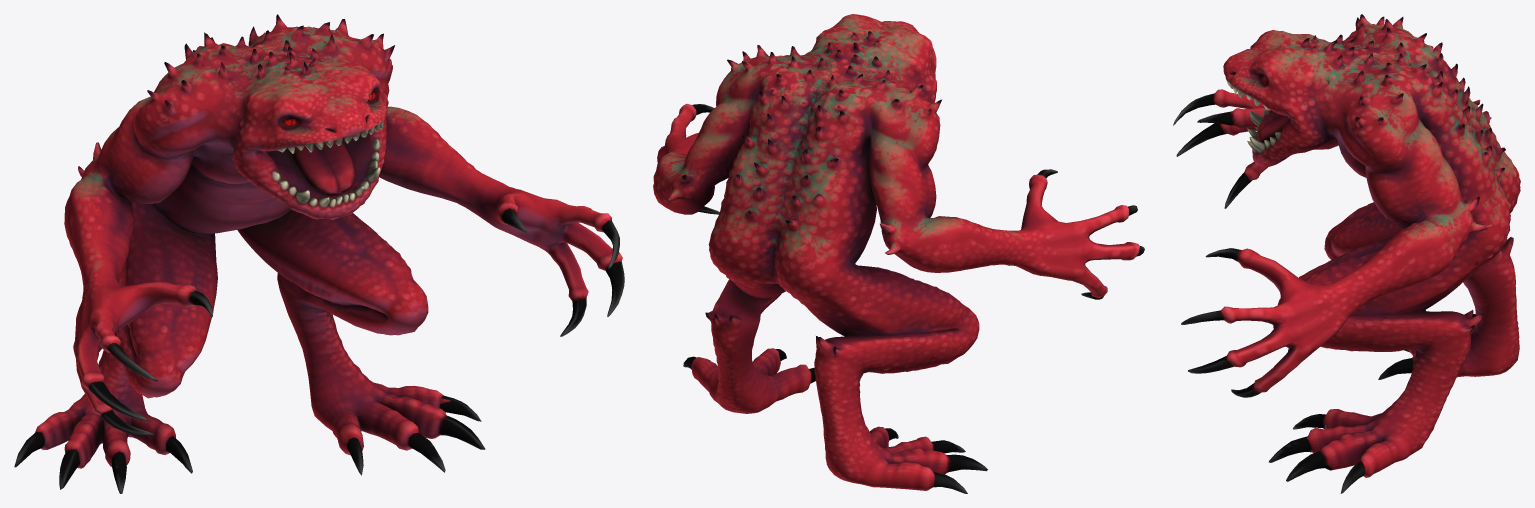
File: MZ4250 - Slaad Red.glb
The picture shows the model from 3 angles, left to right: view 1: azimuth 30°, elevation 25°; view 2: azimuth 150°, elevation 25°; view 3: azimuth 270°, elevation 25°; orthographic projection. The views are drawn at different scales.
Visible parts, largest first — view 1: body_low.001; view 2: body_low.001; view 3: body_low.001.
Part boxes in pixels (left/top/right/bottom): body_low.001: left=14, top=14, right=624, bottom=493; body_low.001: left=653, top=14, right=1144, bottom=493; body_low.001: left=1173, top=14, right=1520, bottom=493.
Size of the model in its own units: 8.56 by 6.39 by 5.38.
Materials: 1 (1 with a texture image).
